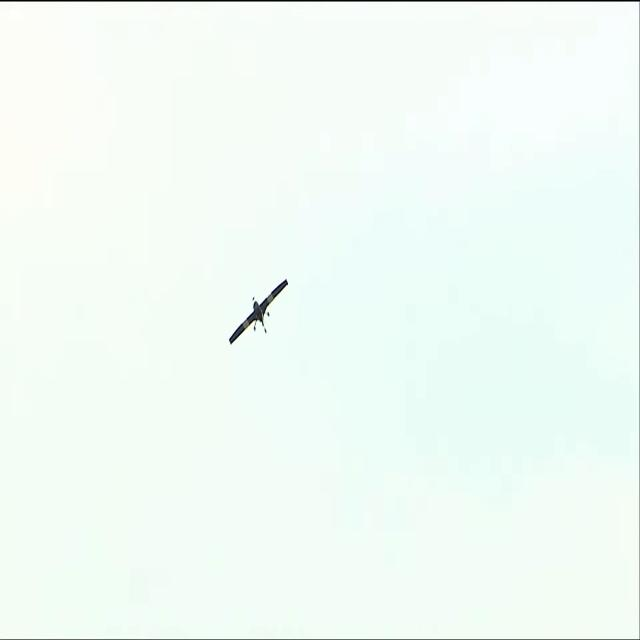iha: (229, 311, 286, 315)
